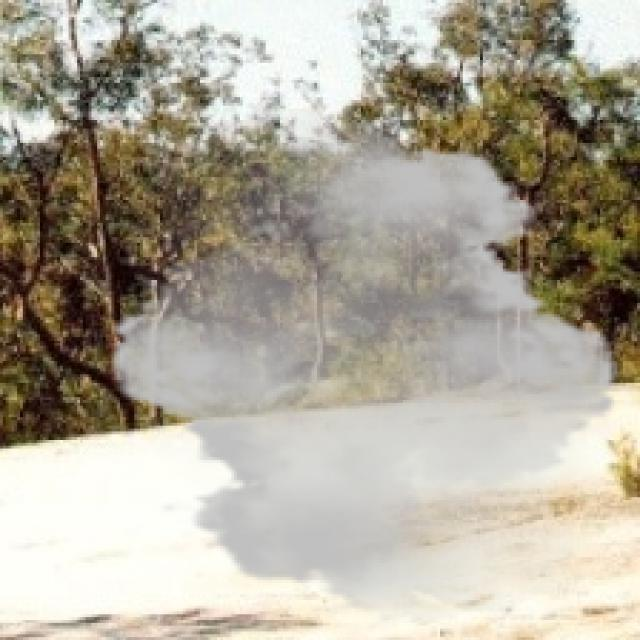smoke: (89, 109, 637, 626)
